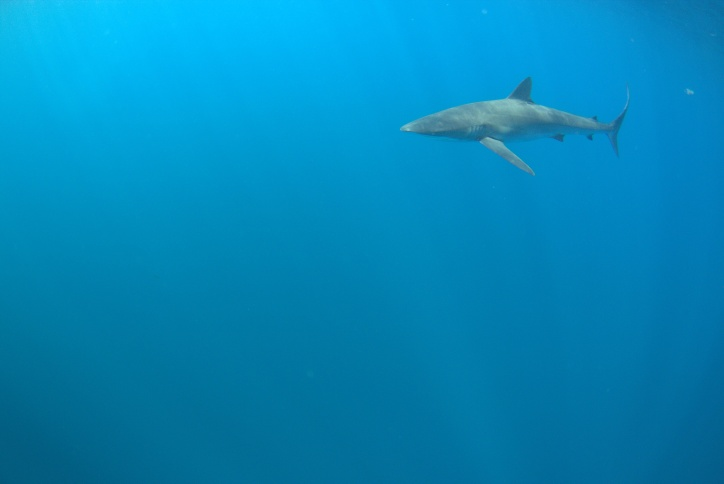Sedoso: (392, 69, 645, 183)
